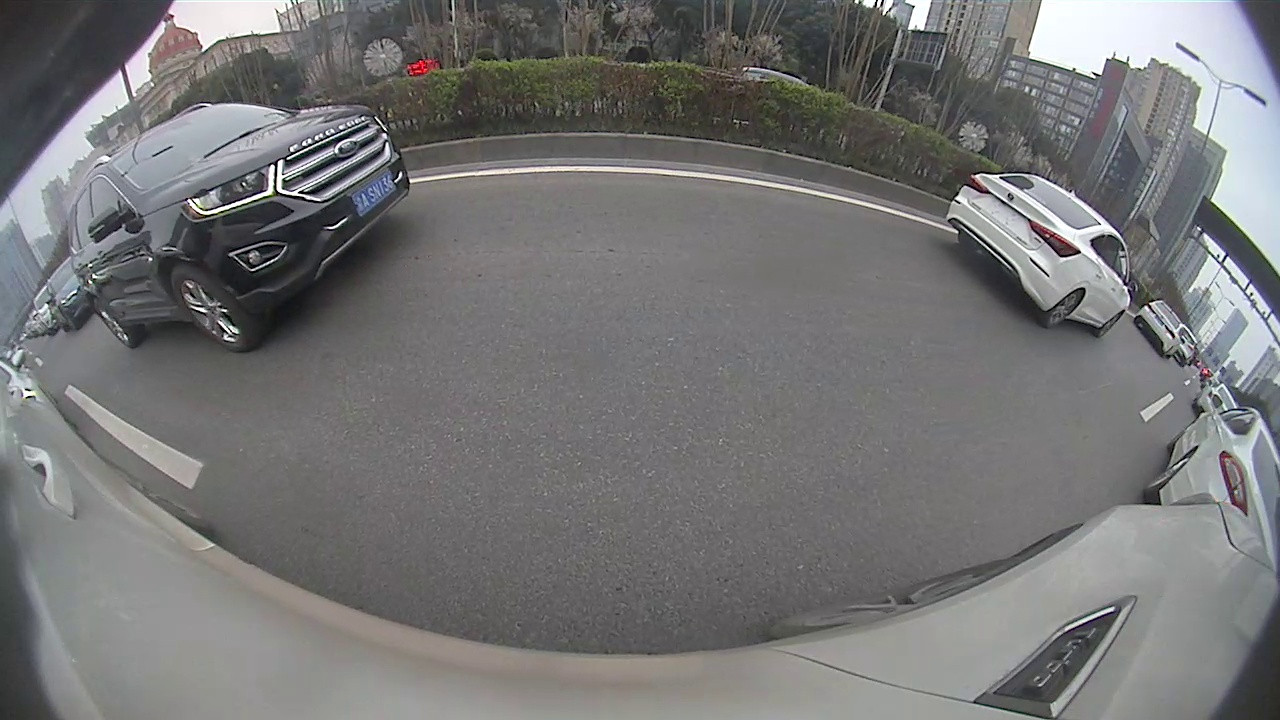car: (923, 180, 1279, 468), (682, 148, 760, 199), (449, 161, 516, 206)
front: (936, 224, 1002, 299)
rear: (1186, 382, 1265, 475), (704, 176, 714, 193)
